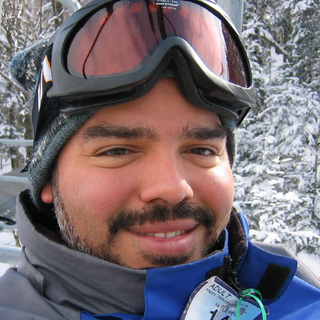eye: (177, 139, 221, 165), (86, 142, 142, 159)
